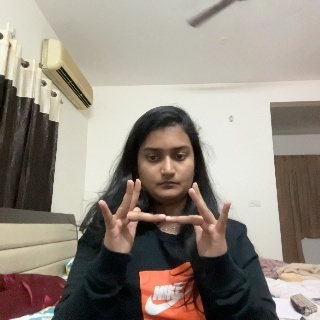Internet: (99, 180, 235, 280)
